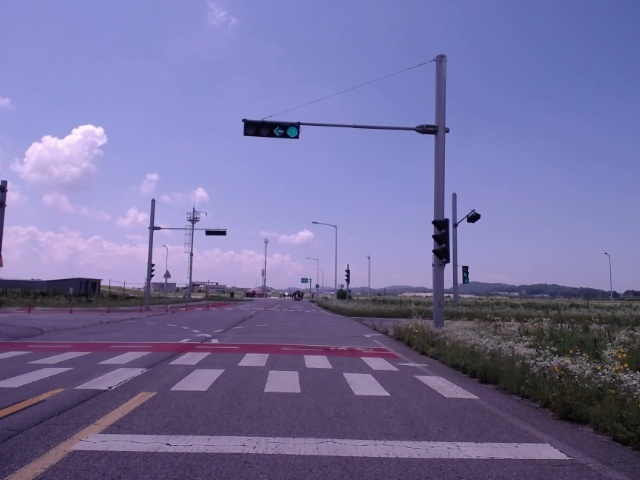all_green_4: (241, 119, 301, 138)
